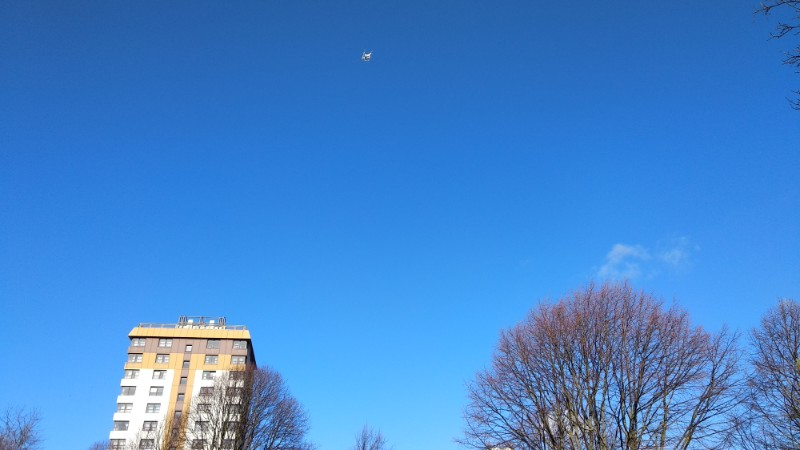drone: (360, 50, 375, 63)
